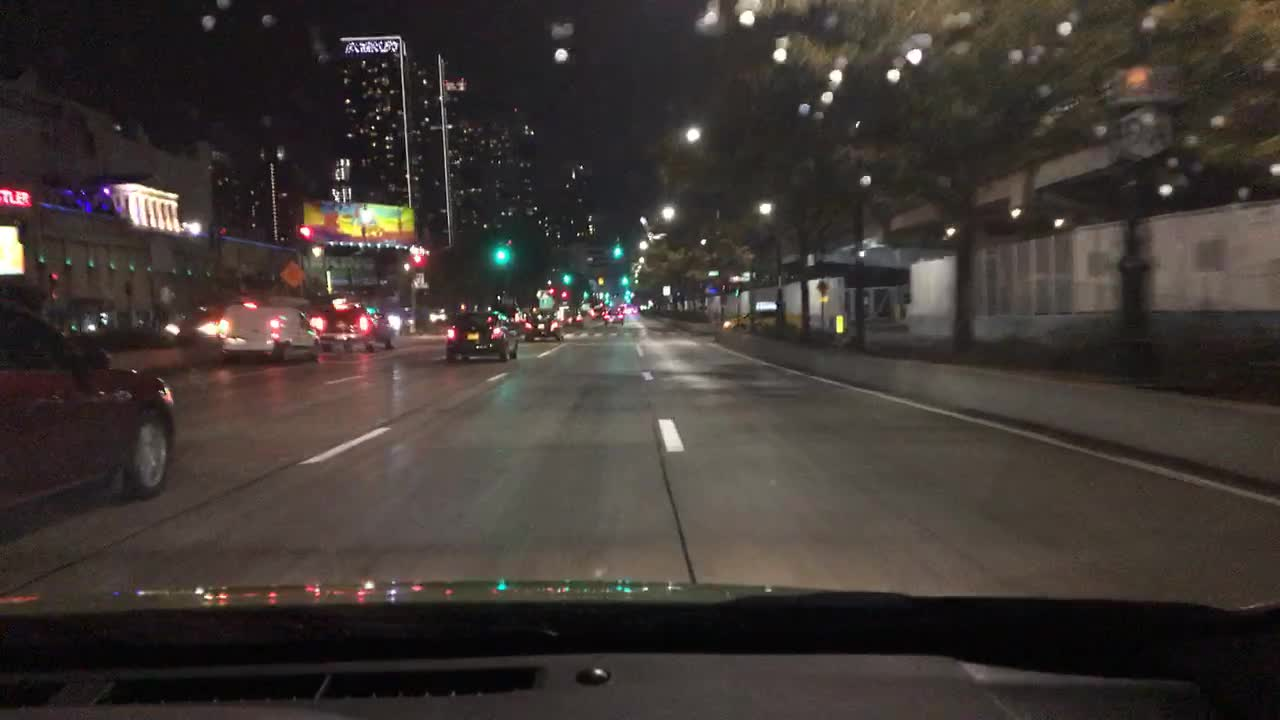car: (0, 280, 179, 503), (214, 297, 322, 368), (309, 299, 395, 354), (445, 307, 516, 361), (165, 302, 231, 341), (521, 307, 565, 342), (492, 300, 526, 326), (384, 305, 413, 327), (422, 305, 449, 326), (600, 305, 624, 326), (557, 309, 584, 327), (619, 300, 638, 314), (573, 305, 595, 317), (590, 300, 606, 314)
traffic light: (209, 226, 226, 250), (503, 233, 514, 265), (297, 224, 312, 245), (611, 236, 624, 258), (494, 239, 504, 265), (619, 270, 631, 288), (411, 253, 423, 270), (560, 266, 570, 285), (558, 285, 568, 302), (580, 283, 590, 300)
traffic sign: (1119, 104, 1171, 162), (1107, 64, 1181, 104), (278, 260, 307, 288), (410, 273, 428, 290), (660, 283, 671, 299)
